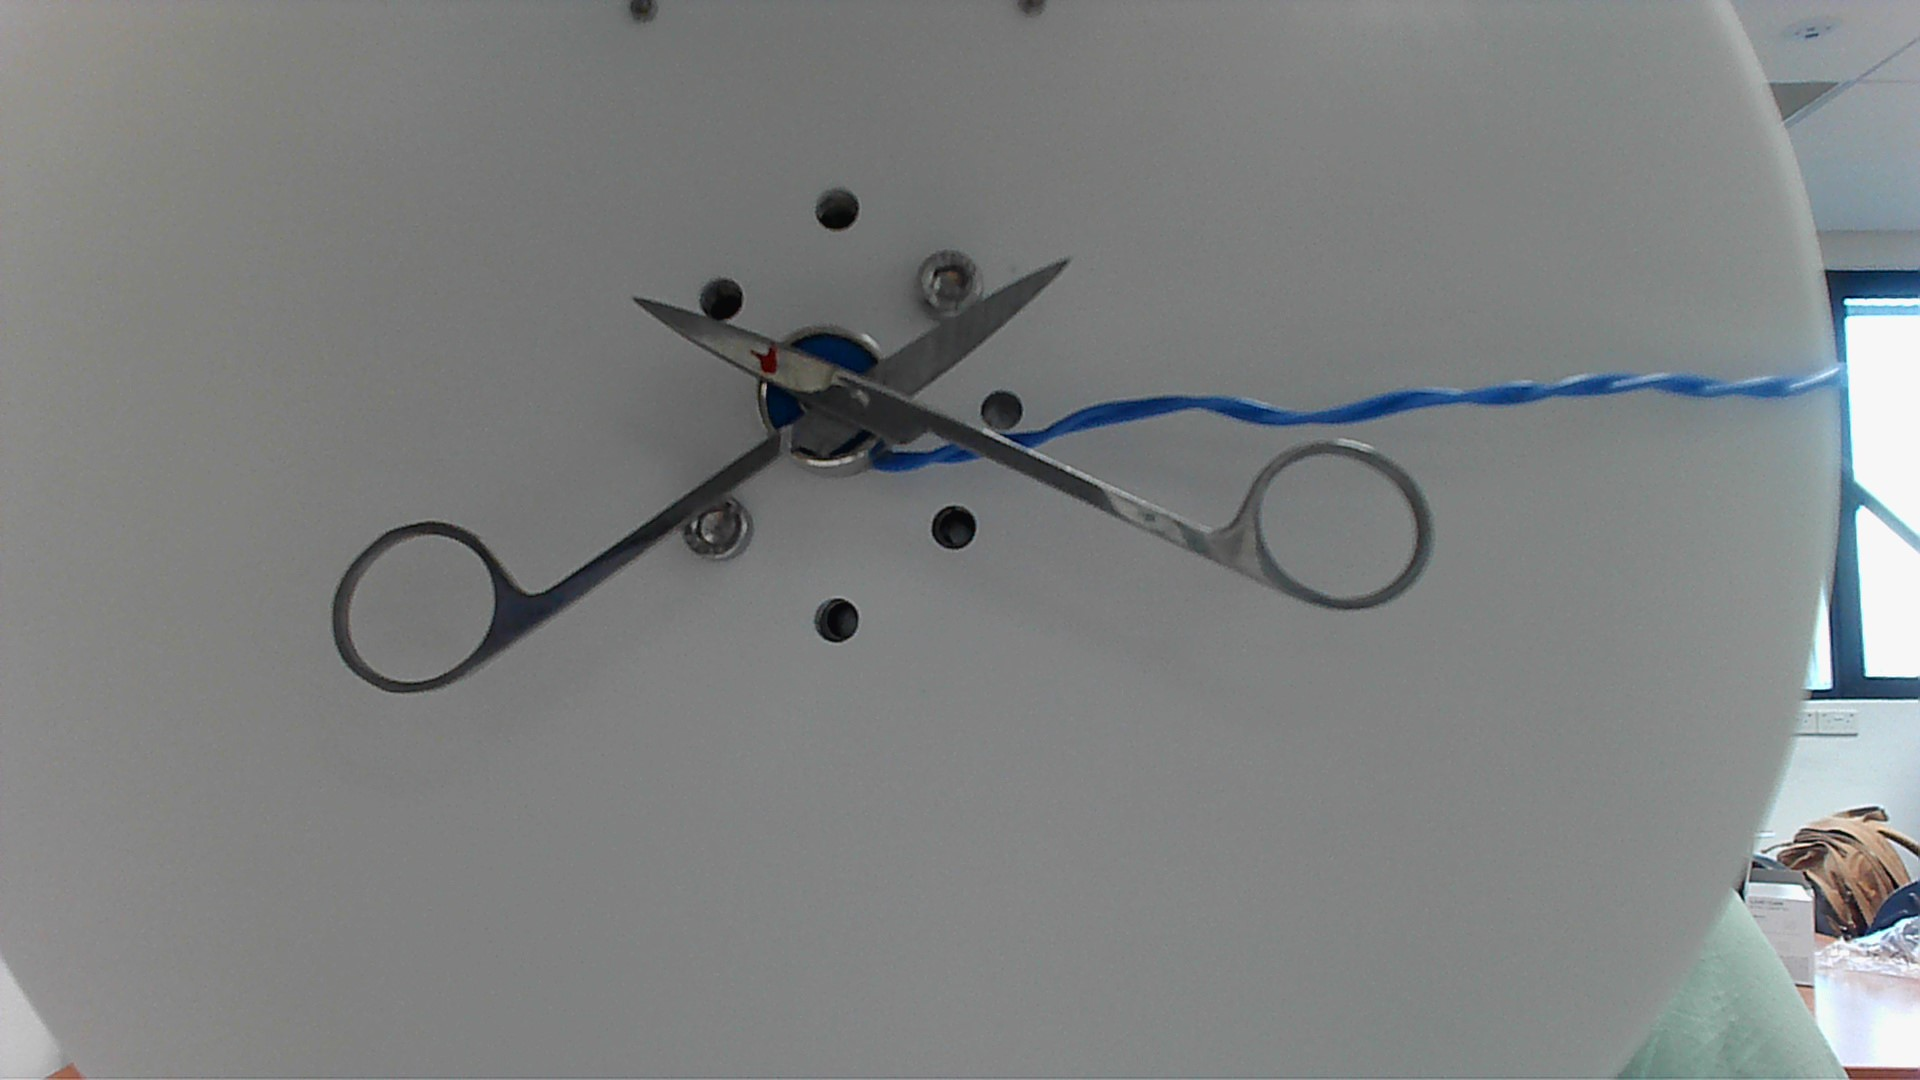Stain: (753, 344, 784, 378)
